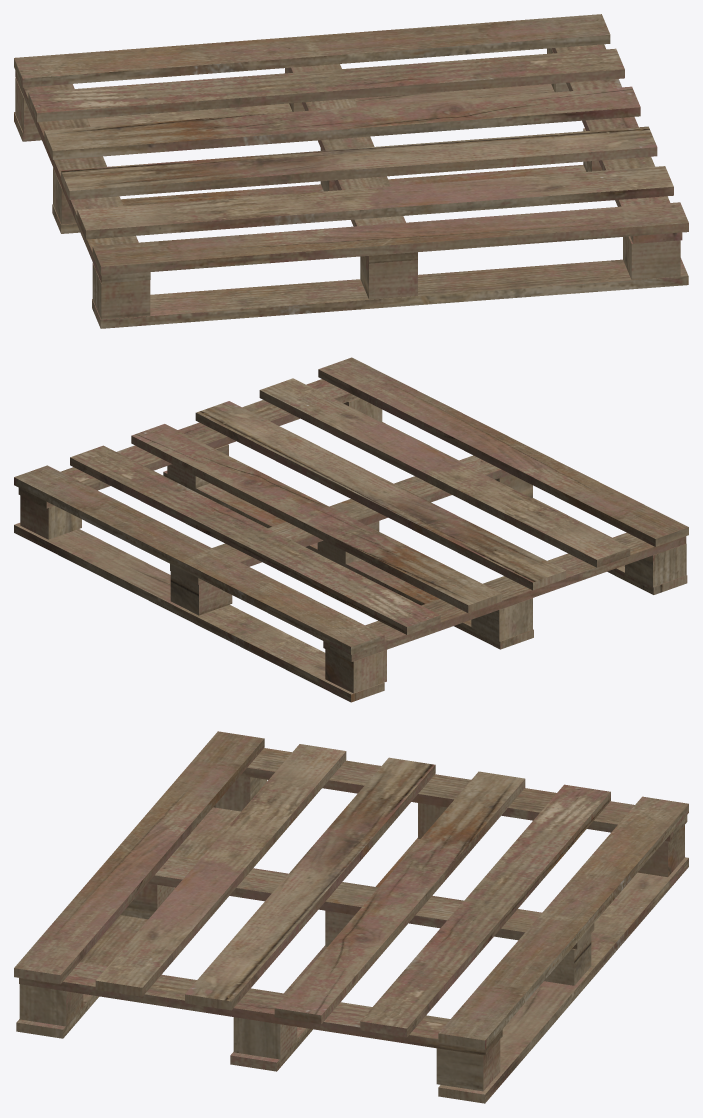
Rendered from Bancale.fbx.
3 renders of one model, top to bottom at view 1: azimuth 30°, elevation 25°; view 2: azimuth 150°, elevation 25°; view 3: azimuth 270°, elevation 25°, orthographic. The views are drawn at different scales.
Visible parts, largest first — view 1: Pallet; view 2: Pallet; view 3: Pallet.
Boxes of the visible parts, <box> form: Pallet: <box>14,14,688,328</box>; Pallet: <box>14,357,688,702</box>; Pallet: <box>14,731,688,1103</box>.
Size of the model in its own units: 1.47 by 0.1402 by 1.36.
1 material, 1 textured.
